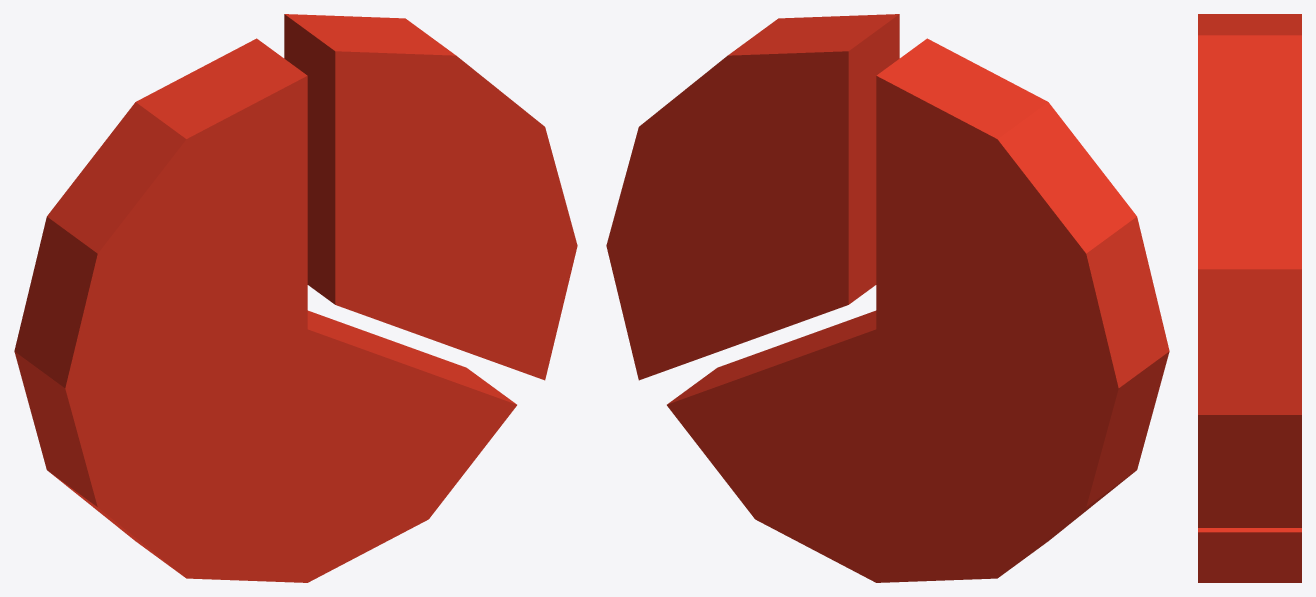
File: Icon_Analytics_02.fbx
3 renders of one model, left to right at view 1: azimuth 30°, elevation 25°; view 2: azimuth 150°, elevation 25°; view 3: azimuth 270°, elevation 25°, orthographic. The views are drawn at different scales.
Parts seen in each view (by area): view 1: Icon_Analytics_02; view 2: Icon_Analytics_02; view 3: Icon_Analytics_02.
Part boxes in pixels (x1,y1,x2,y2): Icon_Analytics_02: (14,14,577,582); Icon_Analytics_02: (606,14,1169,582); Icon_Analytics_02: (1198,14,1301,582).
Size of the model in its own units: 70.1 by 68.64 by 12.06.
